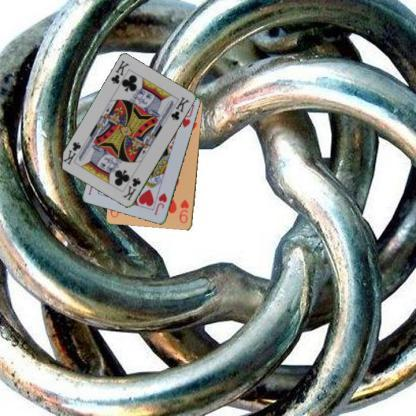9h: (176, 197, 190, 225)
Jh: (152, 190, 168, 216)
Kc: (108, 58, 130, 86), (120, 175, 142, 202)
